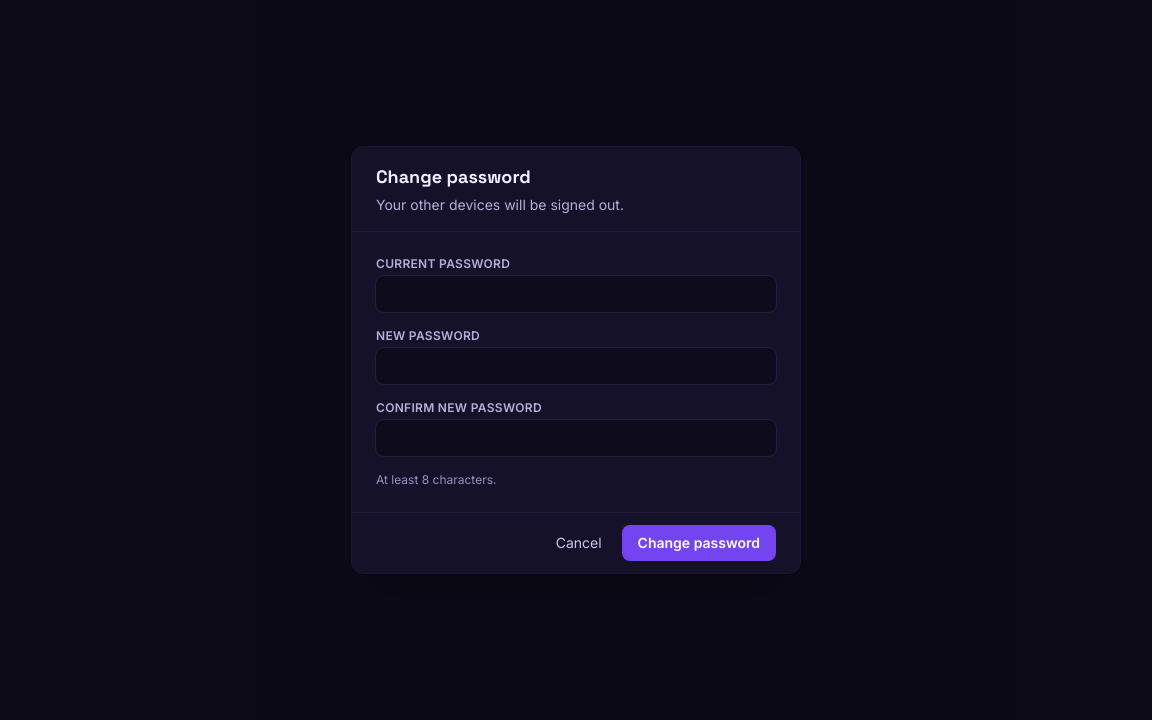
Test: the server's error is shown and the dialog stays open
This screenshot has width=1152, height=720.
Step 1. Type "wrong-password" into the password field labelled "Current password" → (576, 294), box [376,276,776,312]
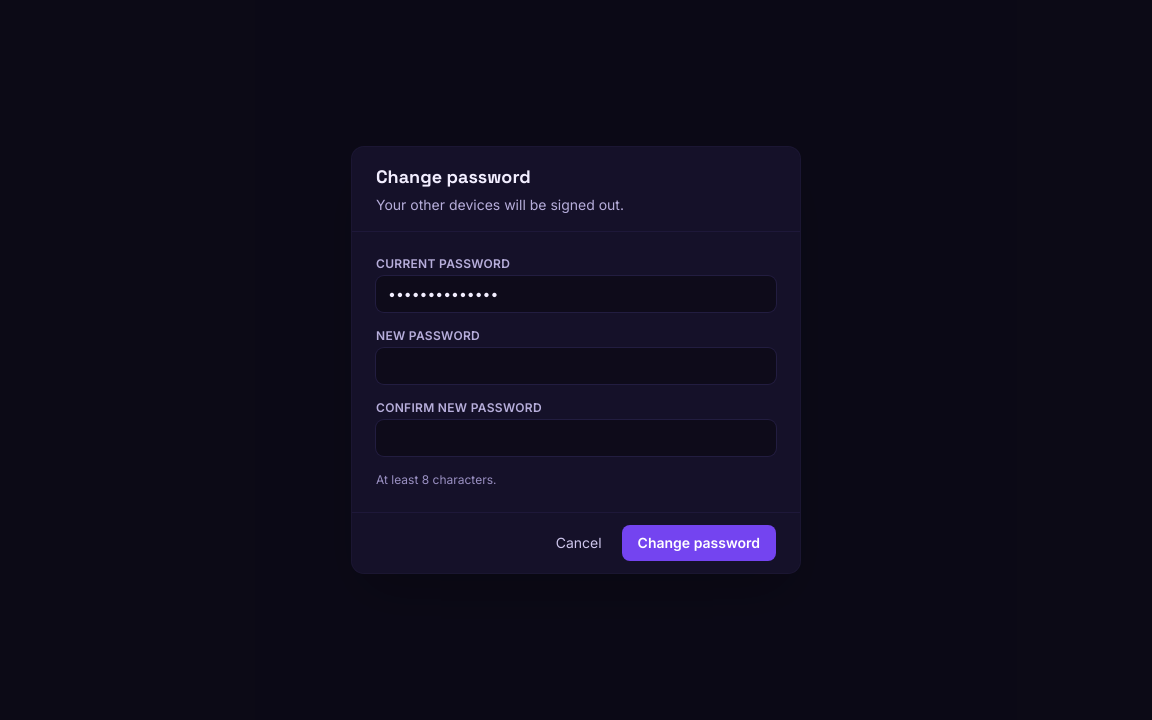
Step 2. Type "a-new-password" into the password field labelled "New password" → (576, 366), box [376,348,776,384]
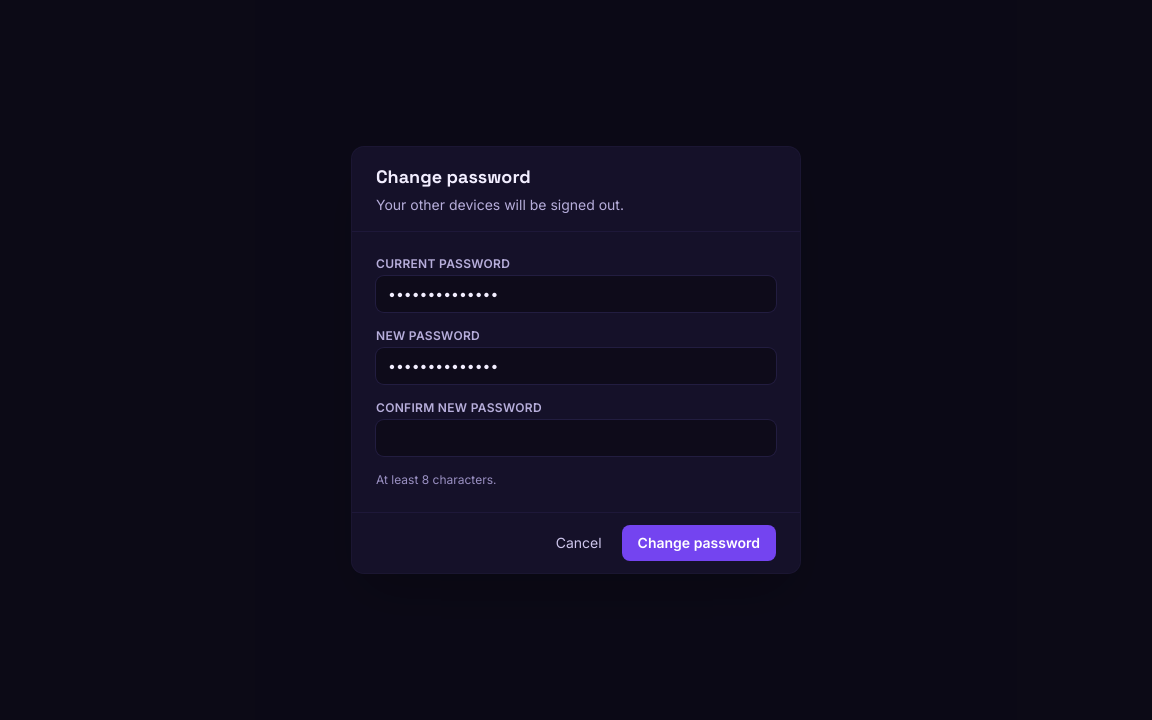
Step 3. Type "a-new-password" into the password field labelled "Confirm new password" → (576, 438), box [376,420,776,456]
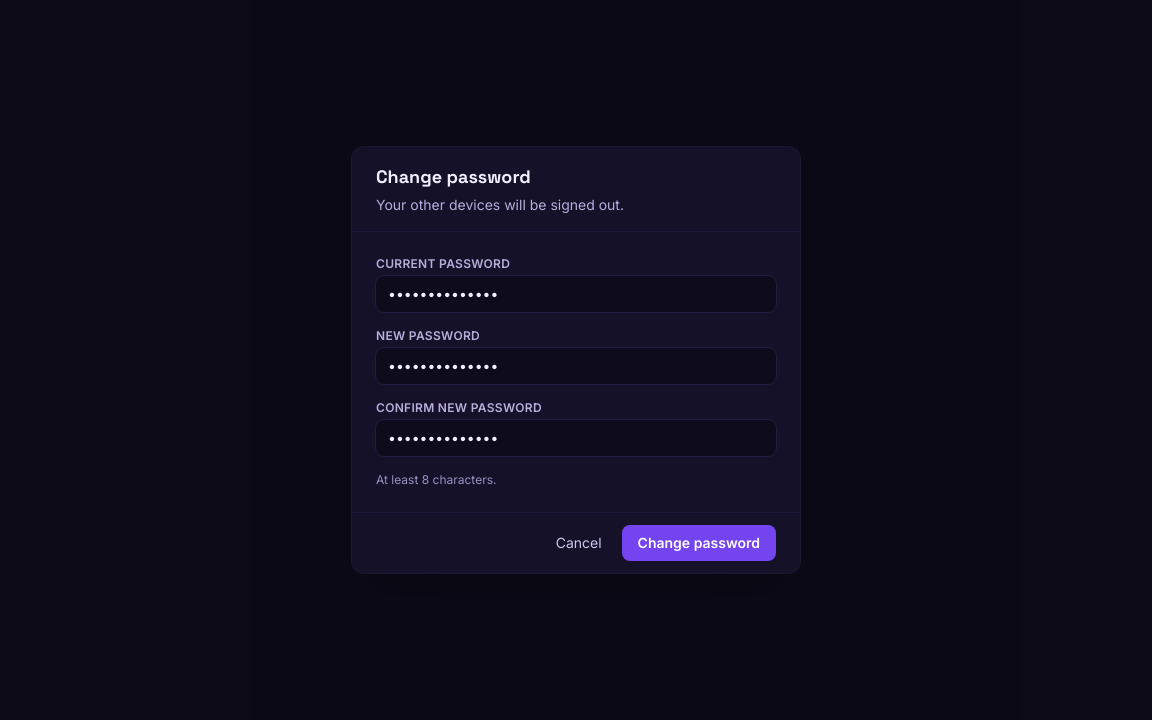
Step 4. Click the button "Change password" → (699, 543), box [622,525,776,561]
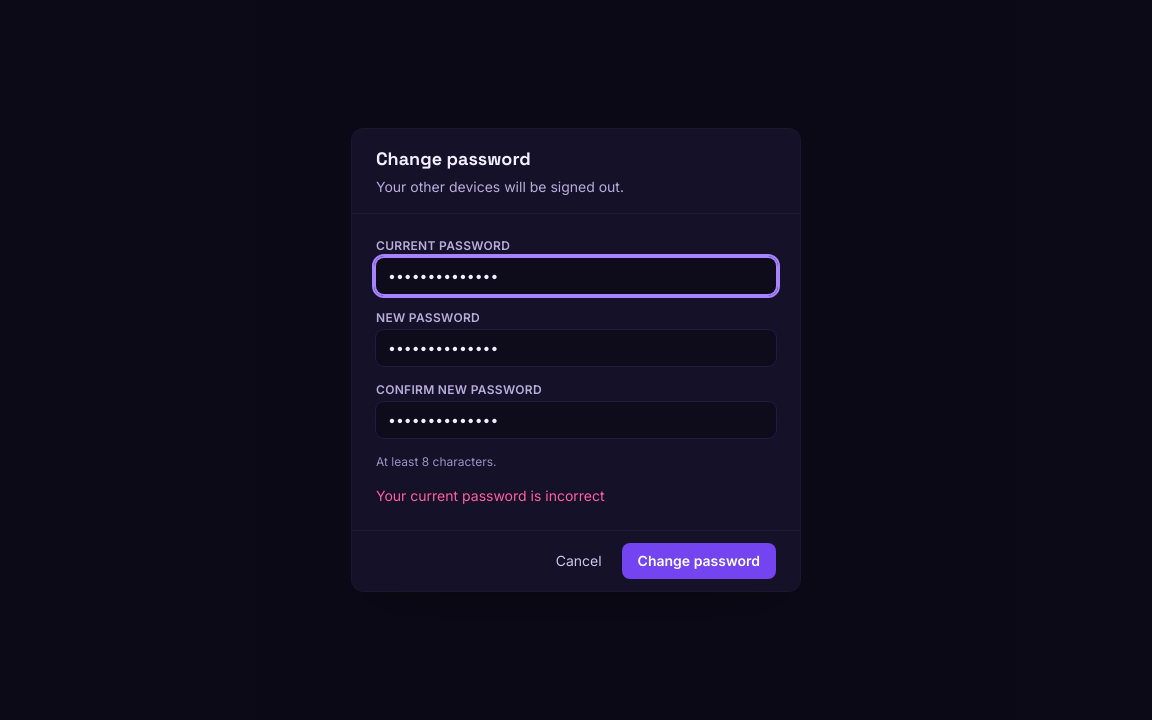
Expected: the button "Change password" is enabled, [622,543,776,579]
Result: the message reads "Your current password is incorrect" at [376,487,605,504]
